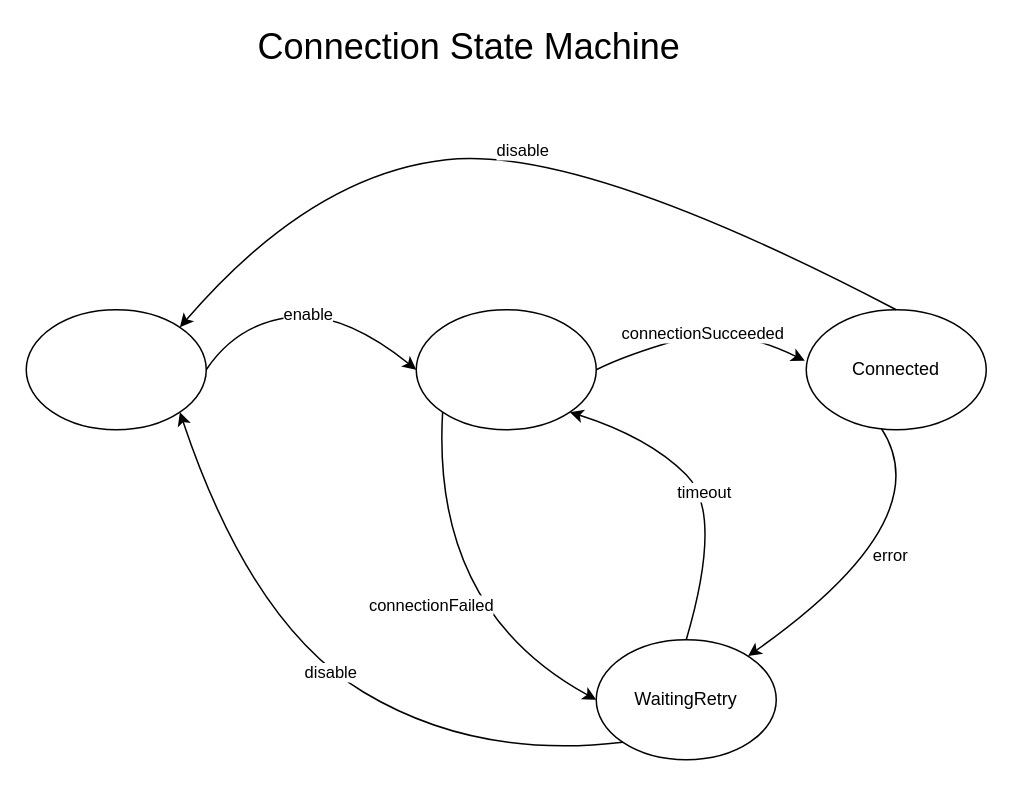
Image size: 1013x786. Some labels were removed from this diagram. Here are the shapes that lost their labels. From the top down, the box of each, then its label:
(25, 308, 206, 430): Idle
(415, 308, 596, 430): Connecting
